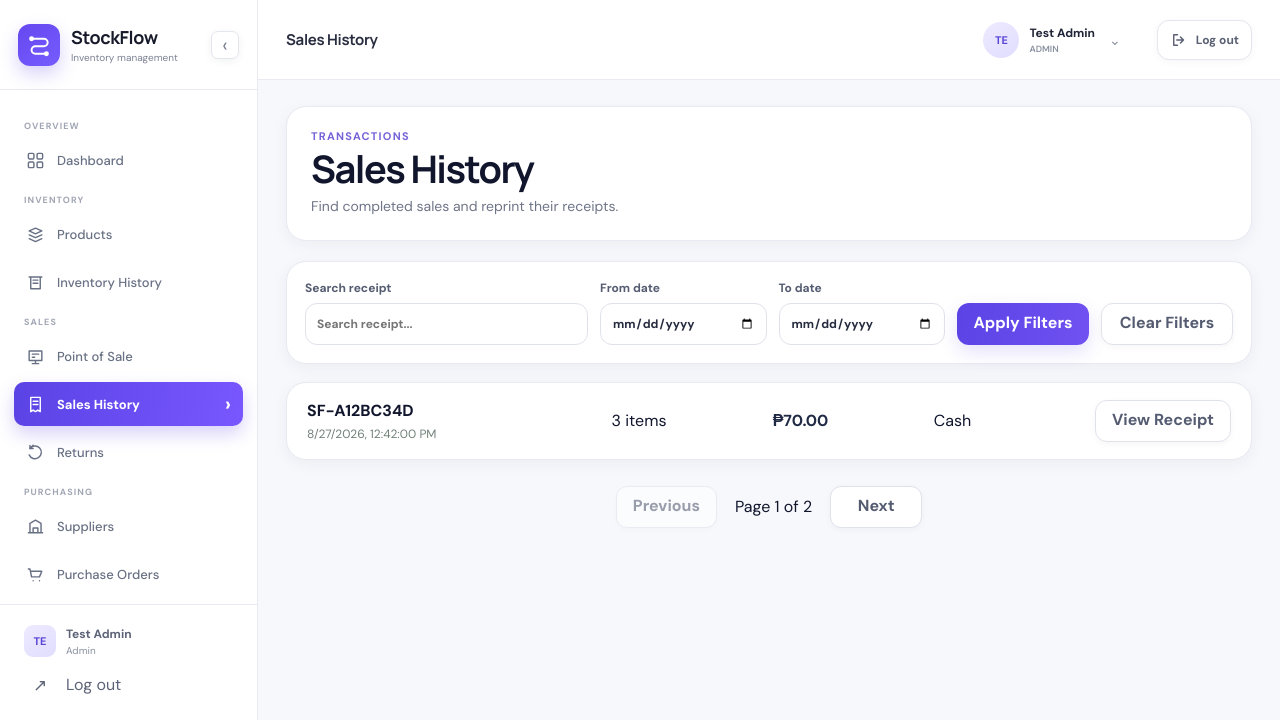
Test: renders sales history and opens a historical snapshot receipt
Check: the text "SF-A12BC34D" is shown, box [307,400,414,421]
Check: the text "3 items" is shown, box [611,410,666,431]
Step 1. Click the button "View Receipt" → (1163, 421), box [1095,400,1231,442]
(page scrolled)
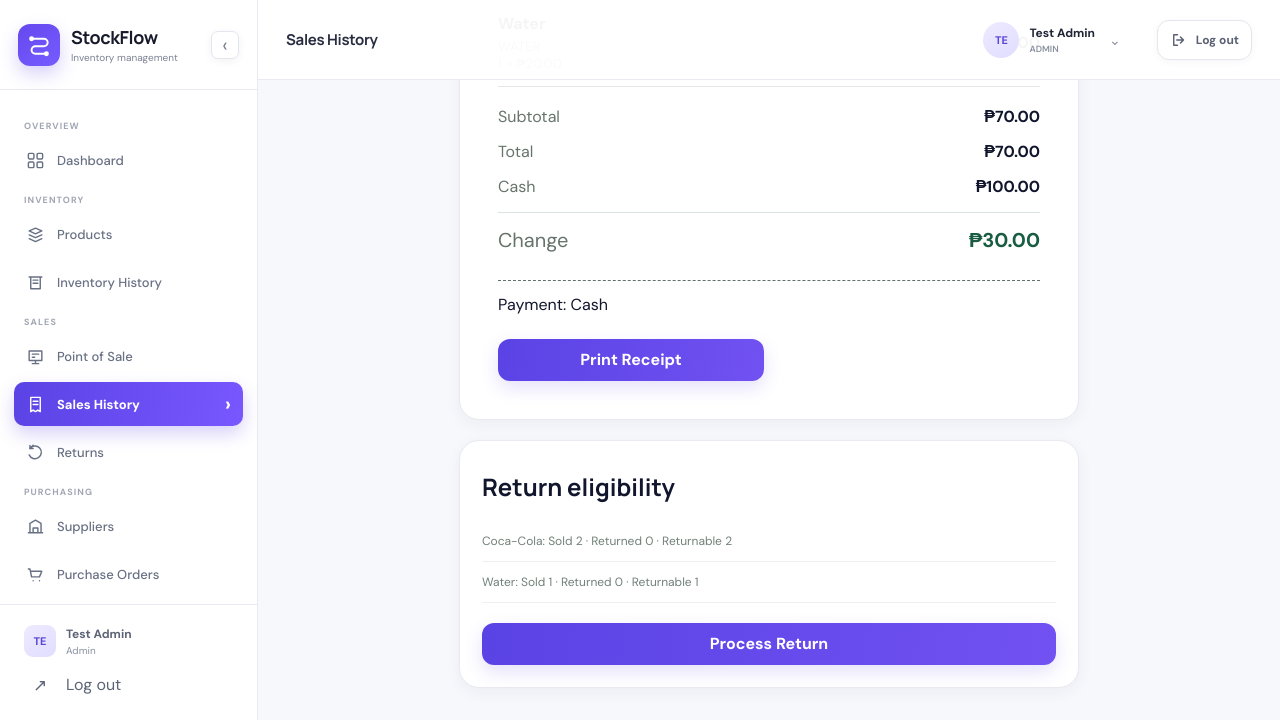
Check: the text "₱70.00" is shown 2 times, box [984,106,1040,127]; [984,141,1040,162]
Check: the text "₱100.00" is shown, box [976,176,1040,197]
Check: the text "₱30.00" is shown, box [969,227,1040,253]
